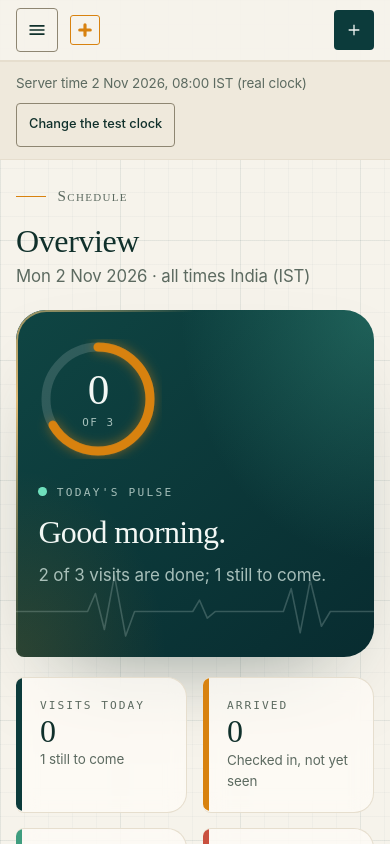
it: the navigation › opens and closes the menu on a phone
Click the button named "Menu".
click(37, 30)  # box [16, 8, 58, 52]
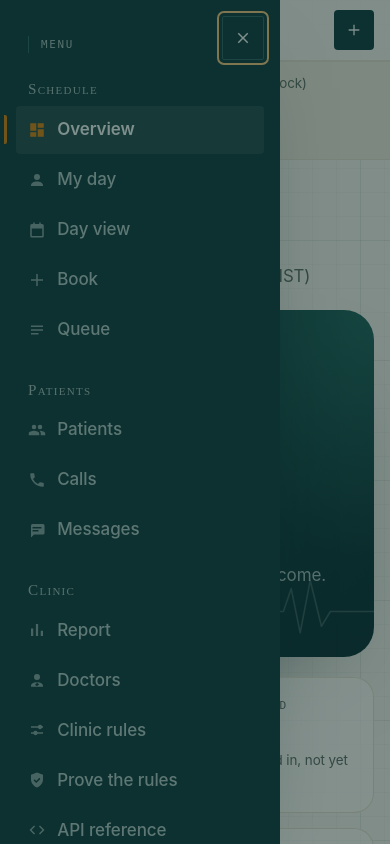
Check: the button named "Menu" is expanded, box [16, 8, 58, 52]
Press Escape
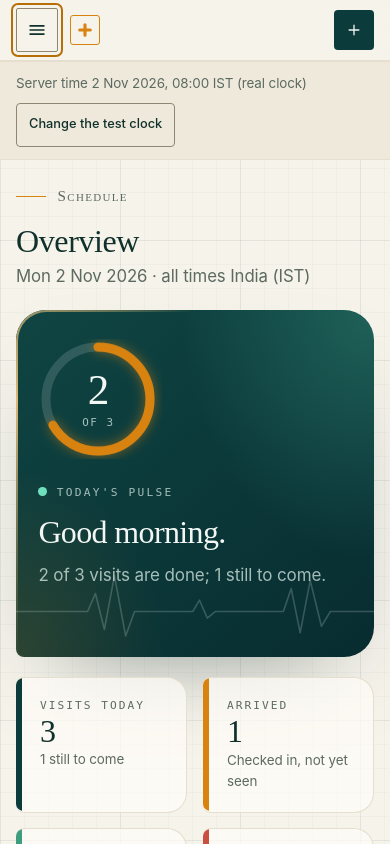
Check: the button named "Menu" is collapsed, box [16, 8, 58, 52]
